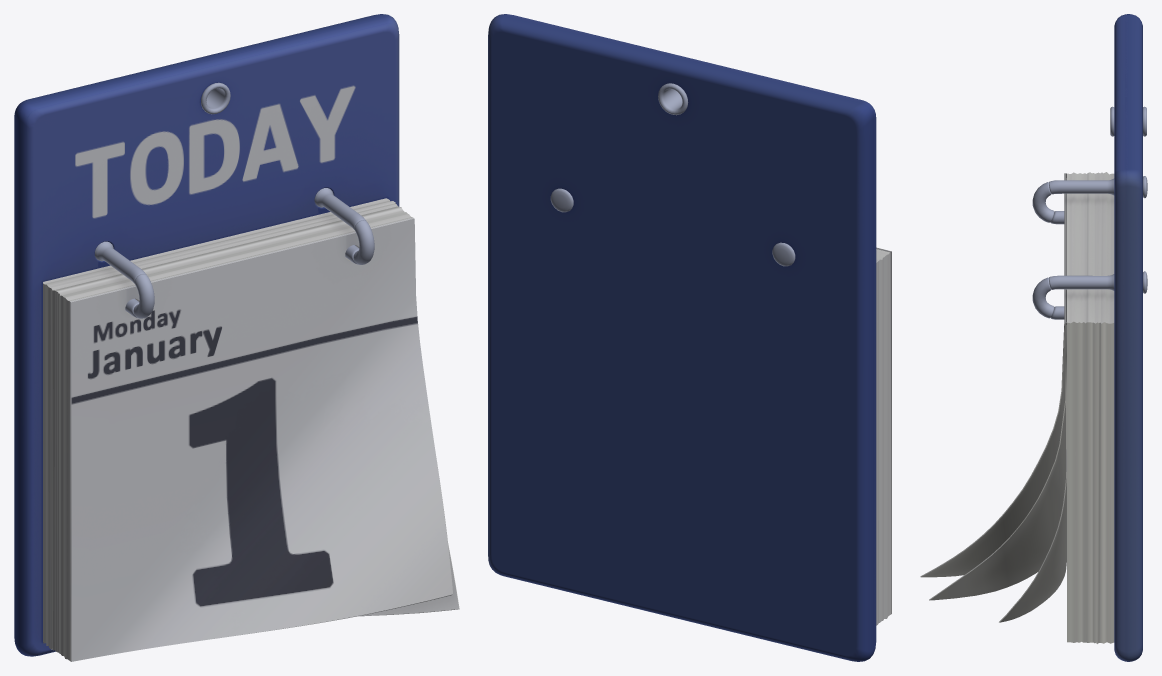
File: wall-1.glb
3 views of the same model, side by side, from view 1: azimuth 30°, elevation 25°; view 2: azimuth 150°, elevation 25°; view 3: azimuth 270°, elevation 25° (orthographic). The views are drawn at different scales.
Parts seen in each view (by area): view 1: calendar.1; view 2: calendar.1; view 3: calendar.1.
Part boxes in pixels (left/top/right/bottom): calendar.1: left=14, top=14, right=459, bottom=661; calendar.1: left=488, top=14, right=891, bottom=661; calendar.1: left=920, top=14, right=1147, bottom=661.
Bounding box in the file's own units: 0.2054 × 0.2866 × 0.1202.
Materials: 1 (1 with a texture image).
